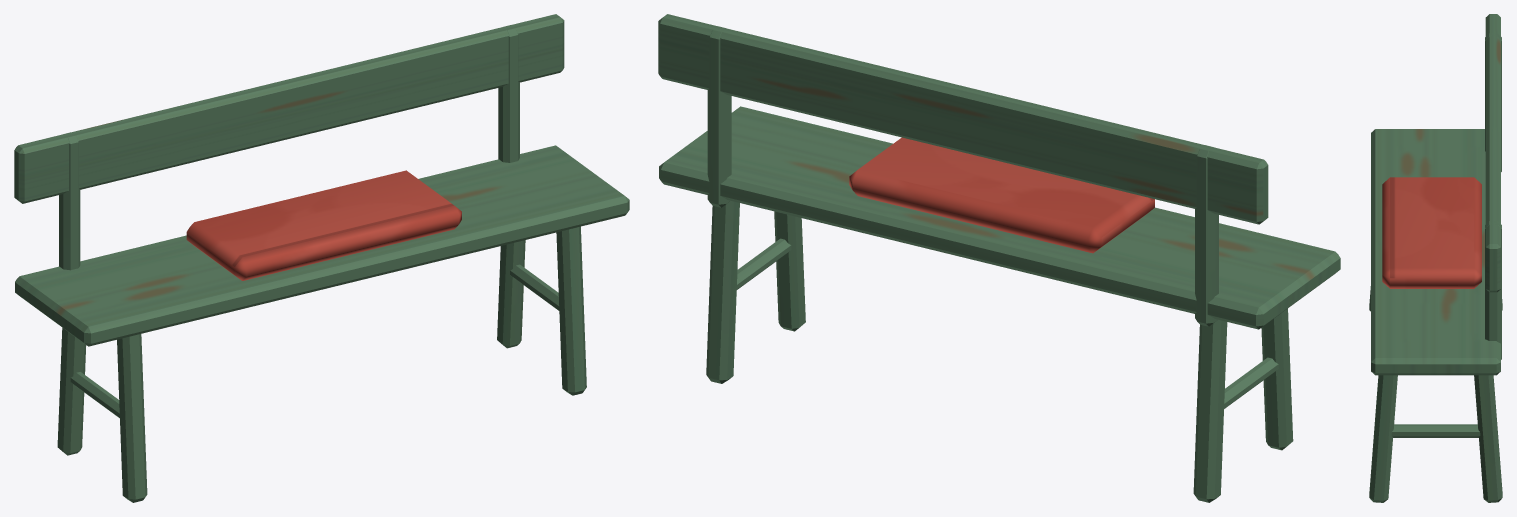
The model's file is SE_Bench_Painted.glb.
3 views of the same model, side by side, from view 1: azimuth 30°, elevation 25°; view 2: azimuth 150°, elevation 25°; view 3: azimuth 270°, elevation 25° (orthographic). The views are drawn at different scales.
Parts seen in each view (by area): view 1: SE_Bench_Painted; view 2: SE_Bench_Painted; view 3: SE_Bench_Painted.
Part boxes in pixels (box(x1,y1,x2,y2)): SE_Bench_Painted: box(14, 14, 629, 502); SE_Bench_Painted: box(658, 14, 1340, 502); SE_Bench_Painted: box(1369, 14, 1502, 502).
Size of what is drawn, in the model's own units: 1.44 by 0.8009 by 0.3482.
1 material, 1 textured.
